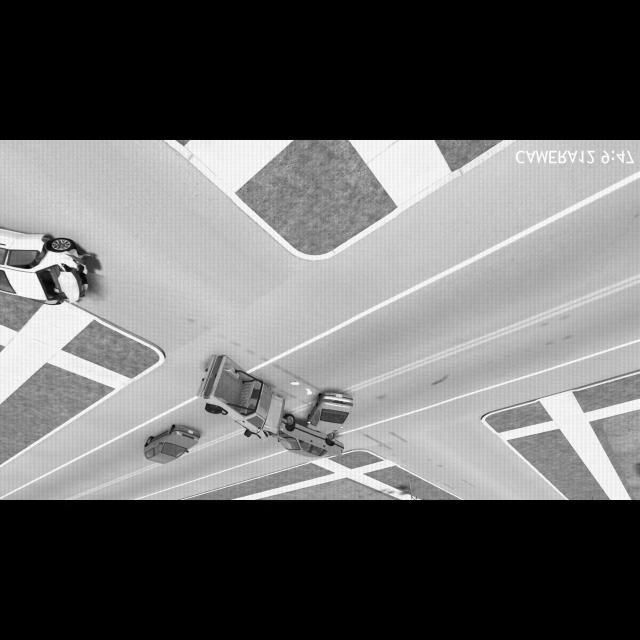severe: (193, 352, 289, 444), (266, 388, 358, 461)
